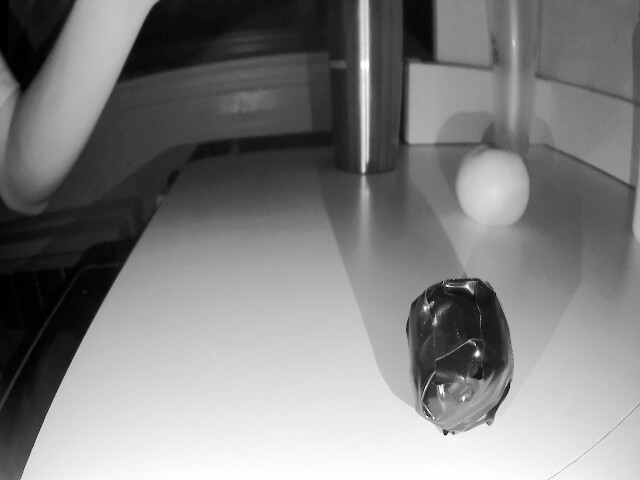black: (404, 265, 514, 442)
